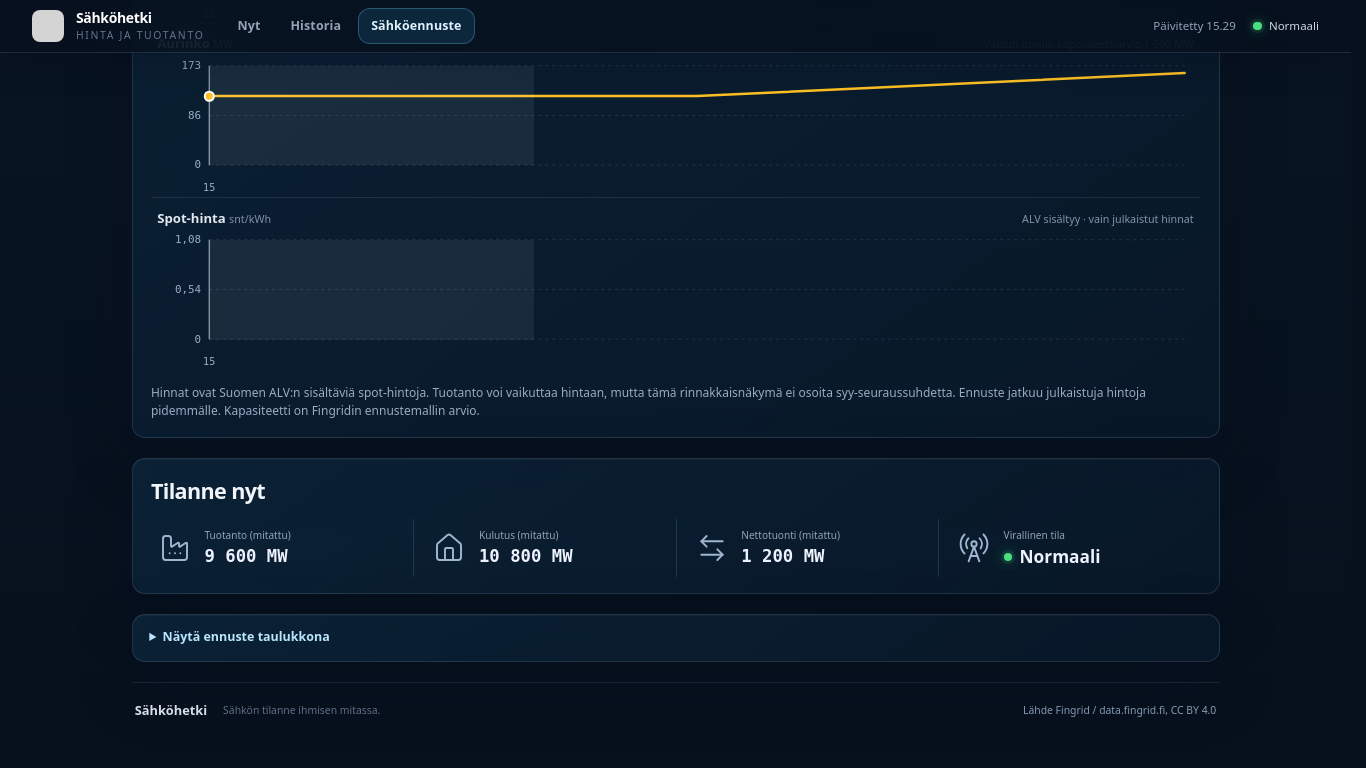
Scenario: ForecastExplorer › shows real gaps and exposes the complete hourly table
(page scrolled)
Click the heading "Näytä ennuste taulukkona" at (246, 637), box [162,628,330,645]
(page scrolled)
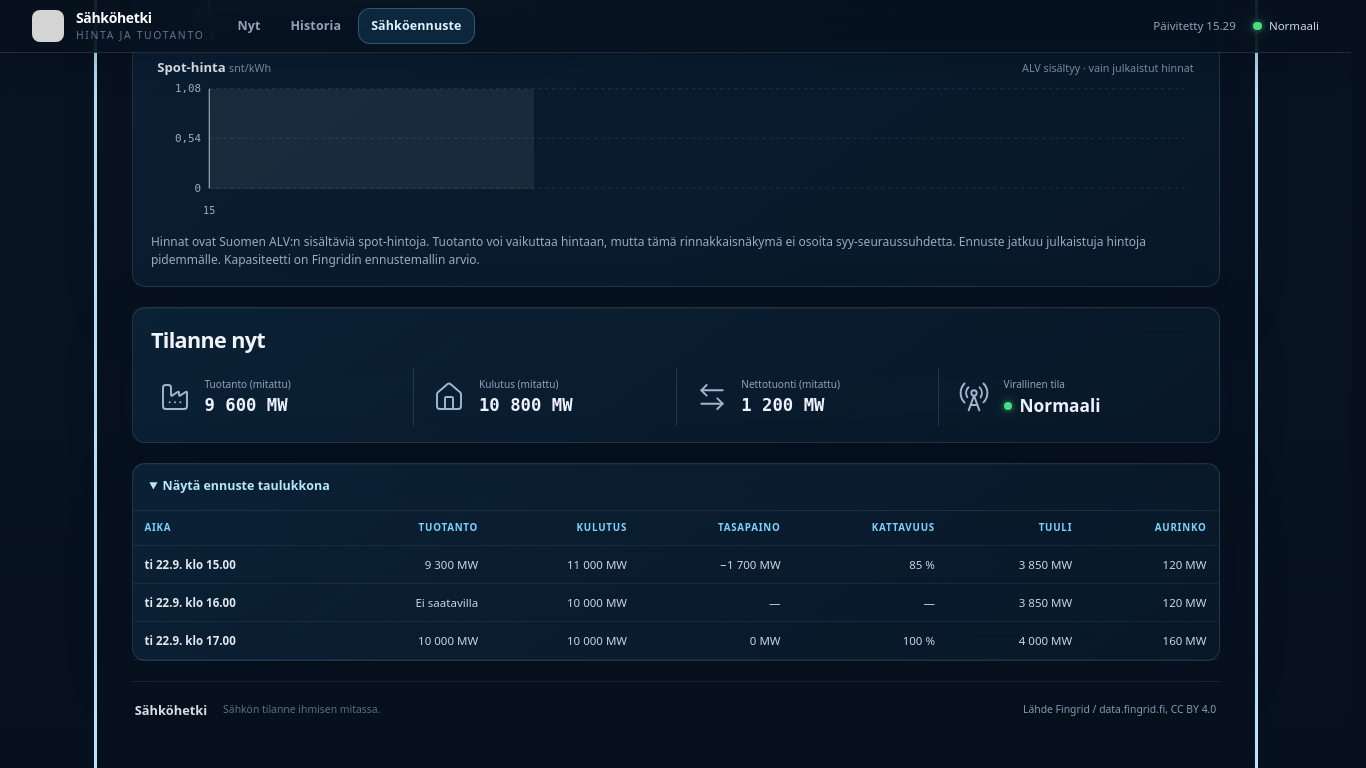
Check: the number of rows is 4, box [132,511,1218,546]; [132,546,1218,584]; [132,584,1218,622]; [132,622,1218,660]
Check: the text "Ei saatavilla" is shown, box [337,584,490,622]
